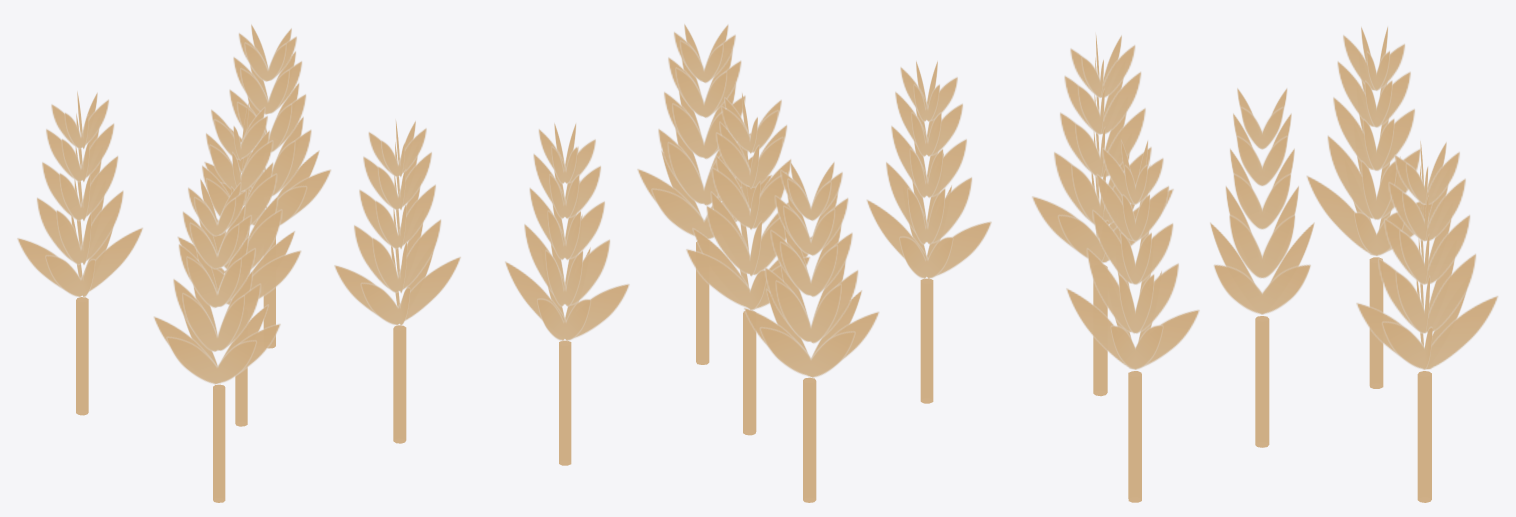
Rendered from Flowers_n03_14.glb.
The picture shows the model from 3 angles, left to right: view 1: azimuth 30°, elevation 25°; view 2: azimuth 150°, elevation 25°; view 3: azimuth 270°, elevation 25°; orthographic projection. The views are drawn at different scales.
Parts seen in each view (by area): view 1: polySurface560; view 2: polySurface560; view 3: polySurface560.
Part boxes in pixels (x1,y1,x2,y2): polySurface560: (17, 24, 460, 502); polySurface560: (504, 23, 991, 502); polySurface560: (1031, 26, 1498, 502).
Size of the model in its own units: 0.4964 by 0.4636 by 0.566.
Materials: 1 (1 with a texture image).
